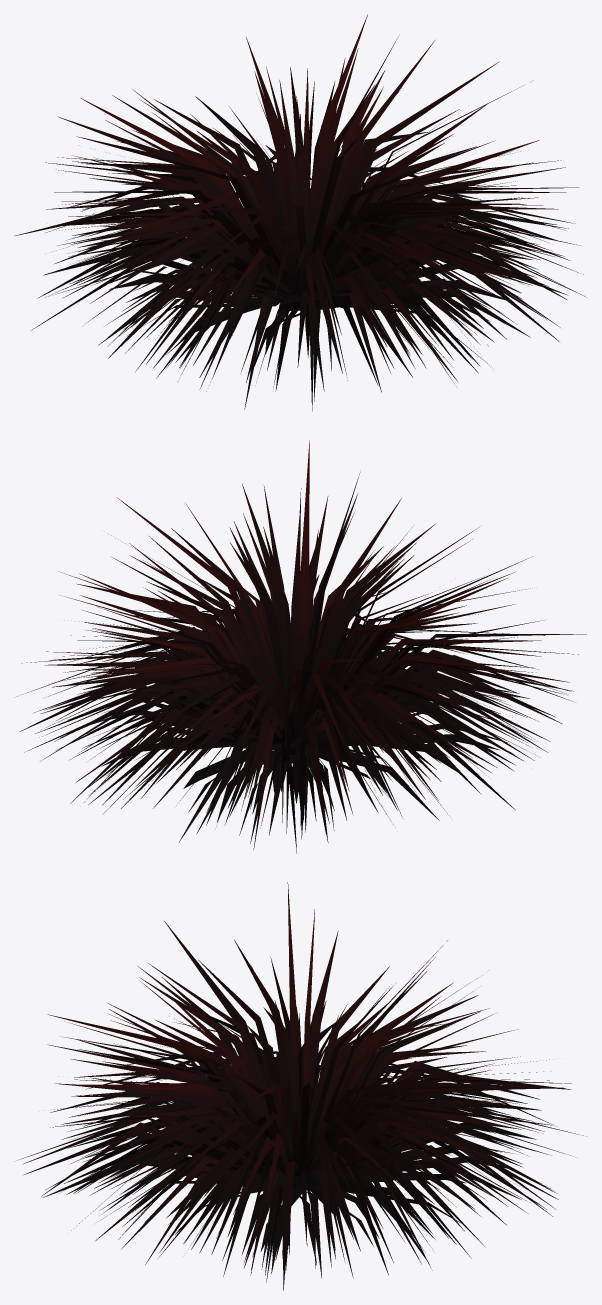
File: shade_grass_v02_LOD1.glb
3 views of the same model, one above another, from view 1: azimuth 30°, elevation 25°; view 2: azimuth 150°, elevation 25°; view 3: azimuth 270°, elevation 25° (orthographic). The views are drawn at different scales.
Visible parts, largest first — view 1: shade_grass_v02_LOD1; view 2: shade_grass_v02_LOD1; view 3: shade_grass_v02_LOD1.
Part boxes in pixels (x1,y1,x2,y2): shade_grass_v02_LOD1: (14,14,586,411); shade_grass_v02_LOD1: (17,440,586,853); shade_grass_v02_LOD1: (17,882,583,1290).
Bounding box in the file's own units: 0.7818 × 0.3127 × 0.7938.
1 material, 1 textured.
